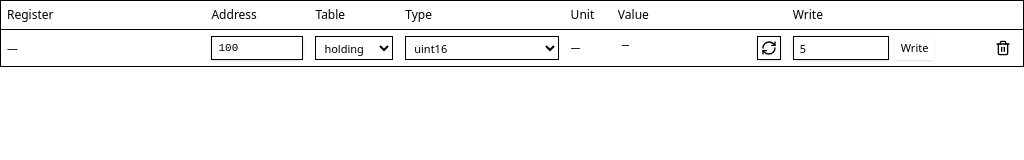
Test: RegisterTable row locking › won't act on a raw row whose address the user is still fixing
Expected: the button "Write" is enabled, [895,36,934,60]
Replace the text in the field named "Raw address" with "70000" at (258, 48), box [212,36,304,60]
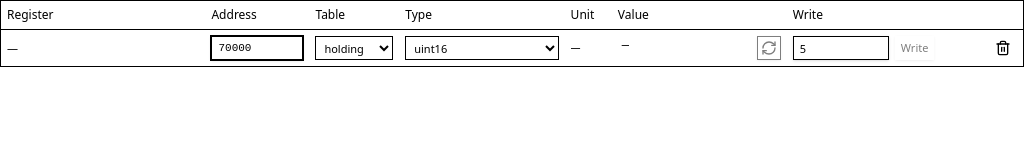
Expected: the button "Write" is disabled, [895,36,934,60]
Expected: the button named "read raw" is disabled, [757,36,781,60]
Replace the text in the field named "Raw address" with "200" at (258, 48), box [212,36,304,60]
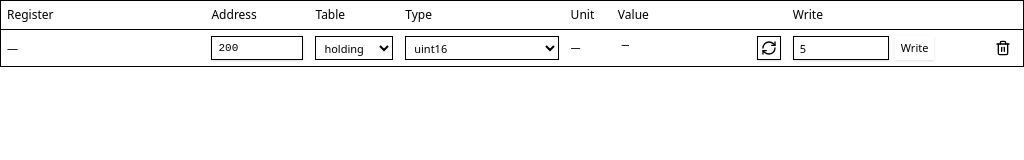
Expected: the button "Write" is enabled, [895,36,934,60]
